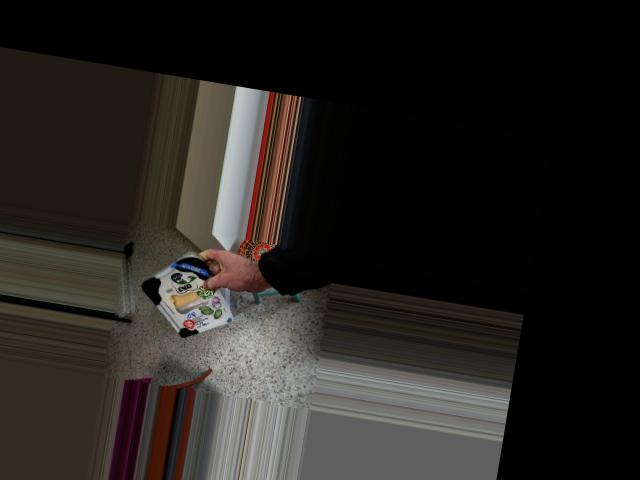cheese: (146, 228, 232, 348)
